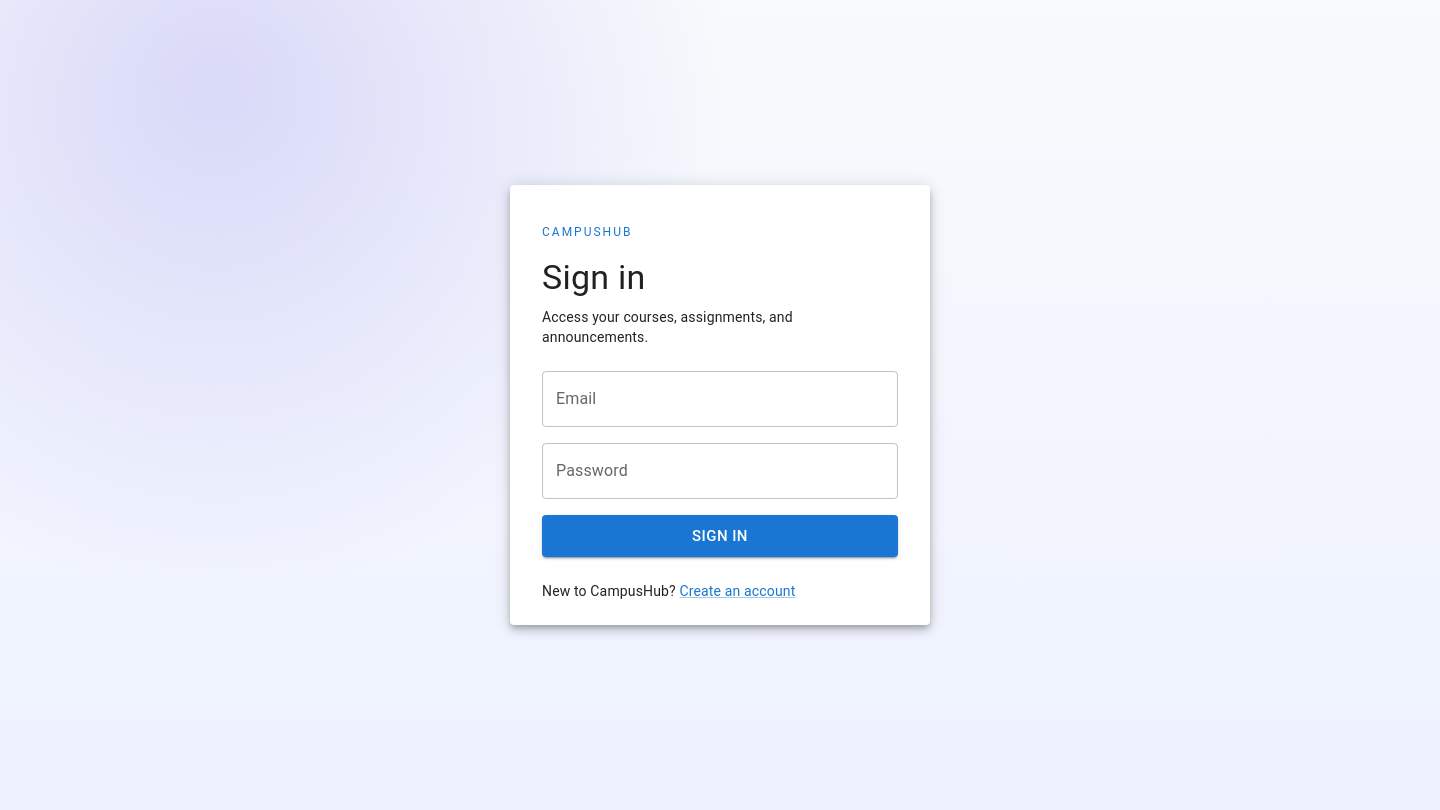
Test case: authentication role switching › switches from admin to student without hitting /forbidden
Type "admin@campushub.local" into the field labelled "Email". click: (720,399)
box: [542,371,898,427]
Type "DemoPass123!" into the password field labelled "Password". click: (720,471)
box: [542,443,898,499]
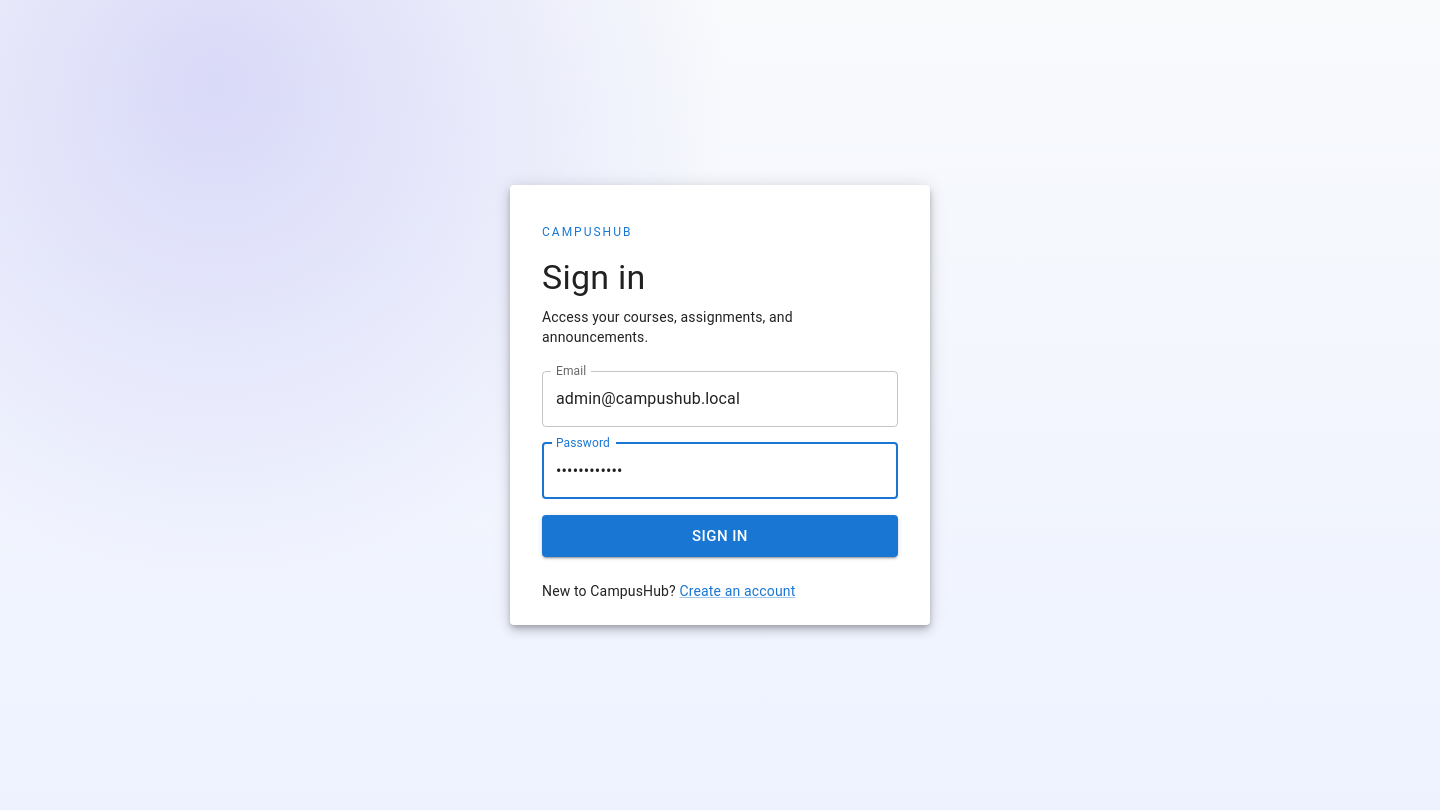
Click the button "Sign in". click: (720,536)
box: [542,515,898,557]
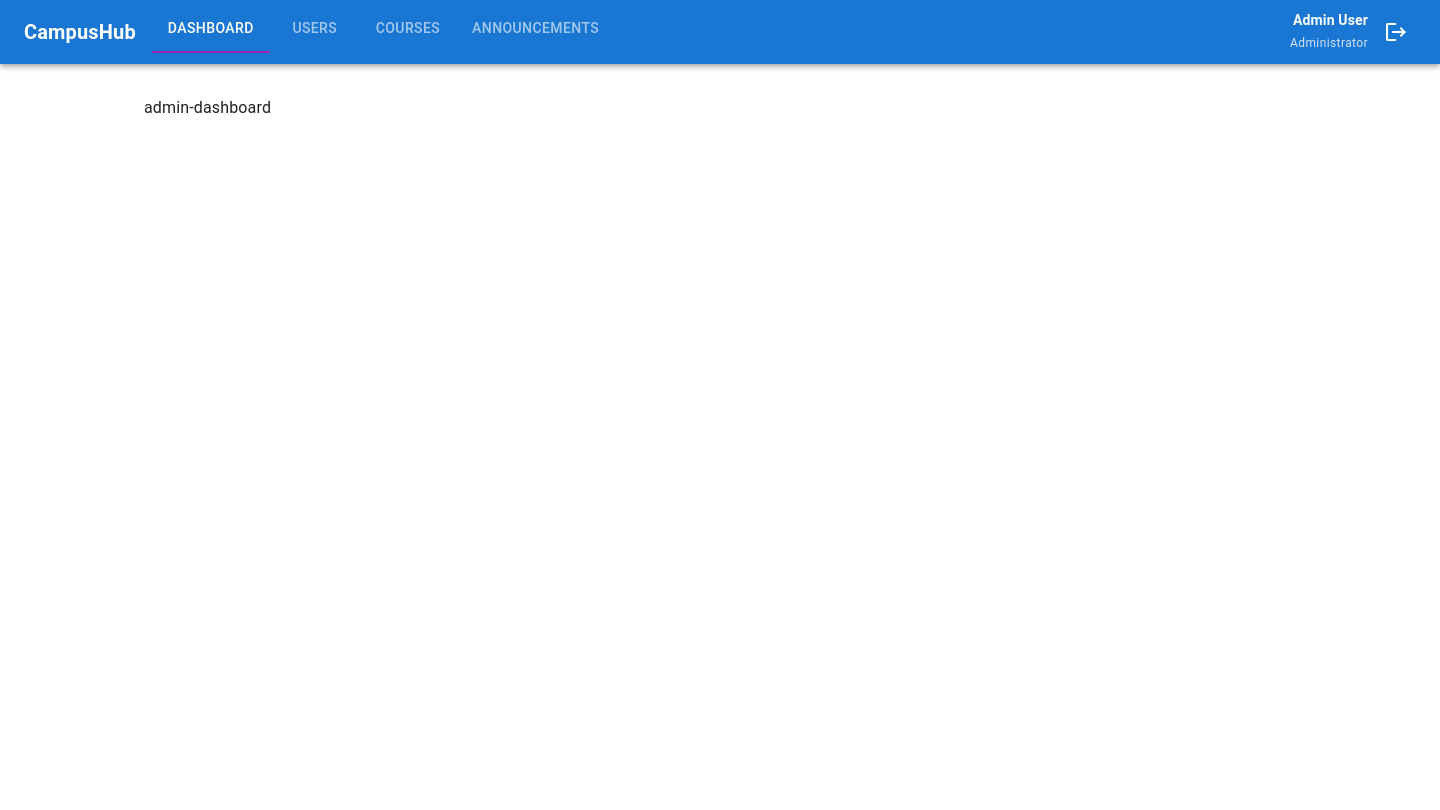
Check: the text "admin-dashboard" is shown, box [144,98,271,117]
Click the button named "Sign out". click: (1396,32)
box: [1376,12,1416,52]
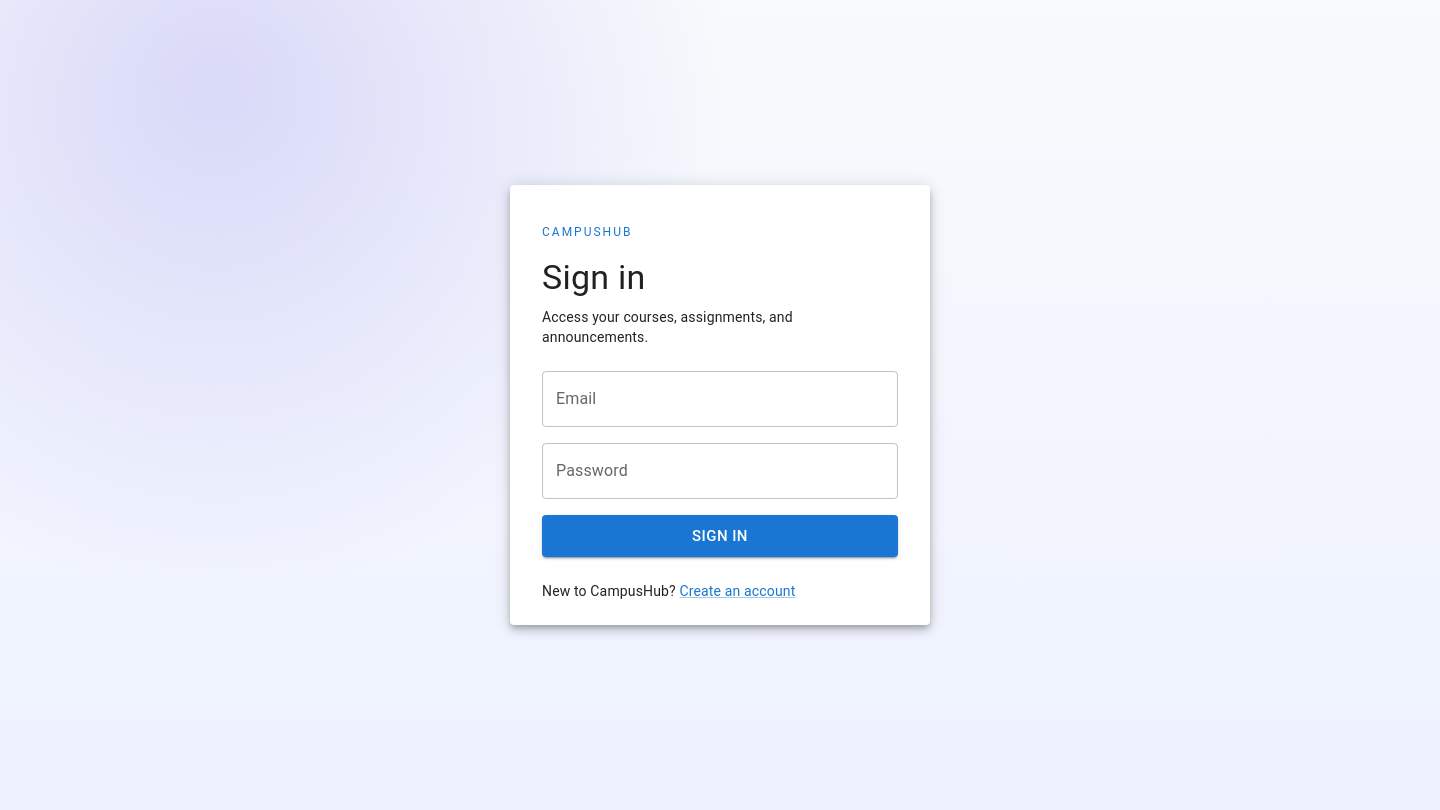
Type "priya.patel@campushub.local" into the field labelled "Email". click: (720,399)
box: [542,371,898,427]
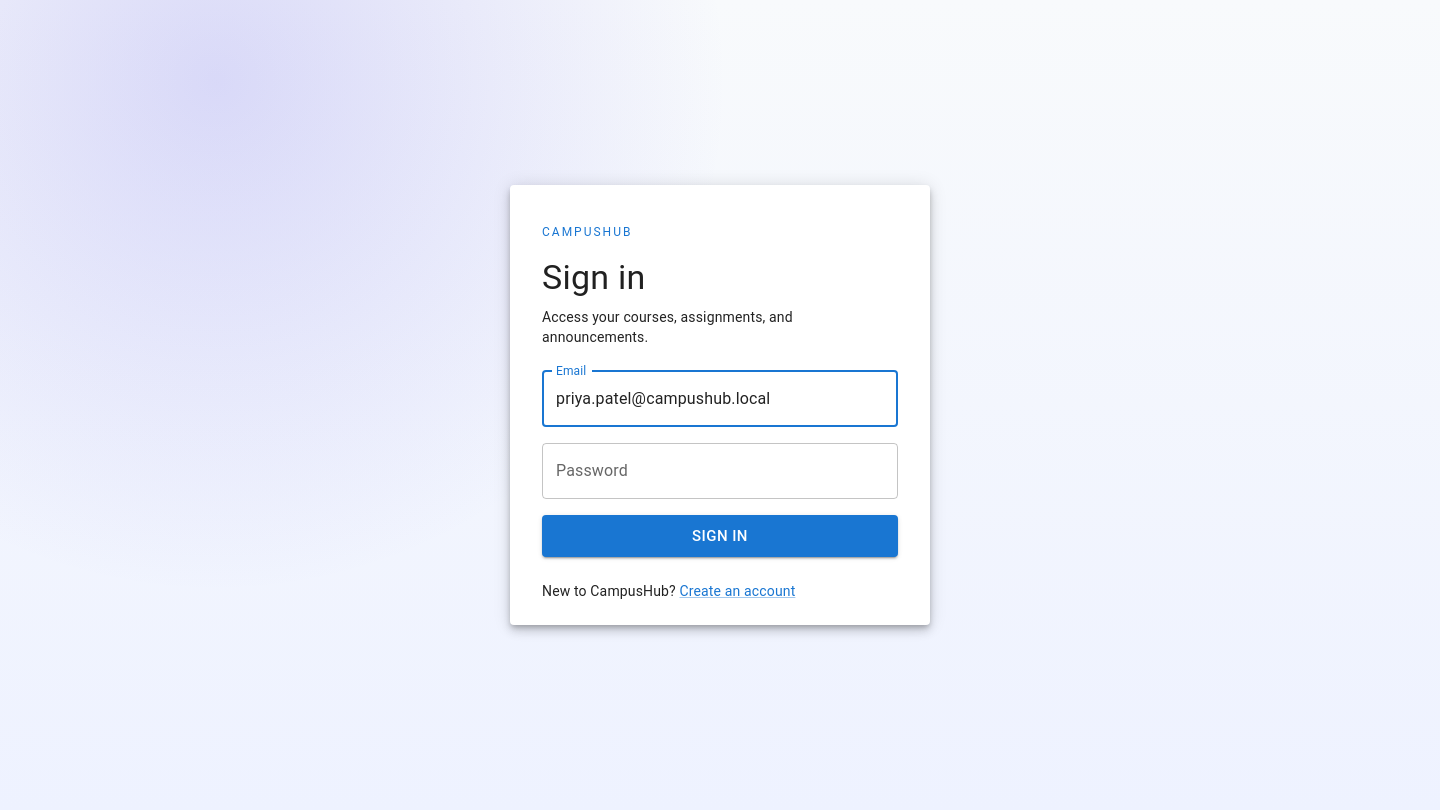
Type "DemoPass123!" into the password field labelled "Password". click: (720,471)
box: [542,443,898,499]
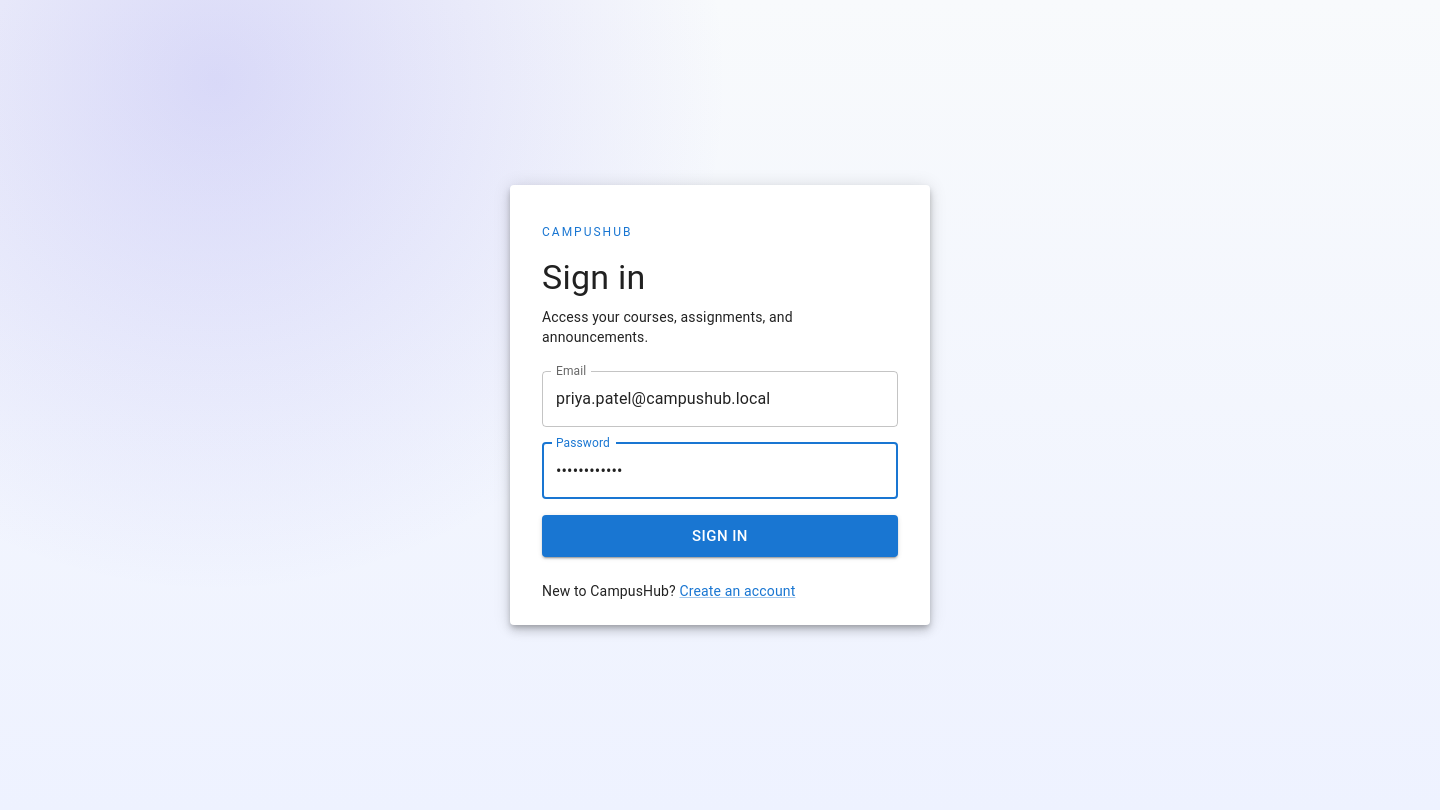
Click the button "Sign in". click: (720,536)
box: [542,515,898,557]
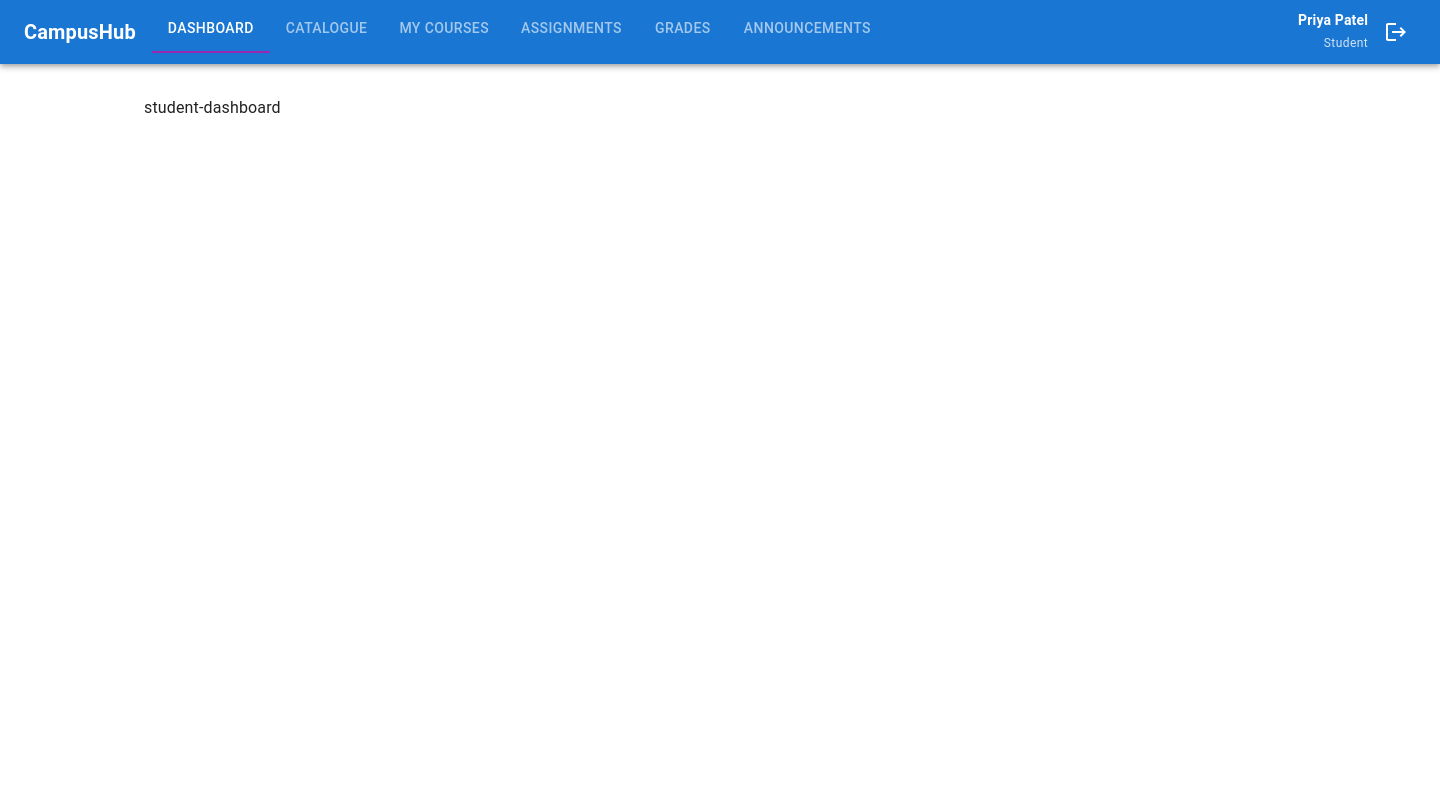
Check: the text "student-dashboard" is shown, box [144,98,281,117]
